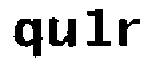1: (84, 6, 111, 54)
q: (12, 17, 42, 60)
r: (115, 13, 141, 51)
u: (48, 14, 78, 51)
